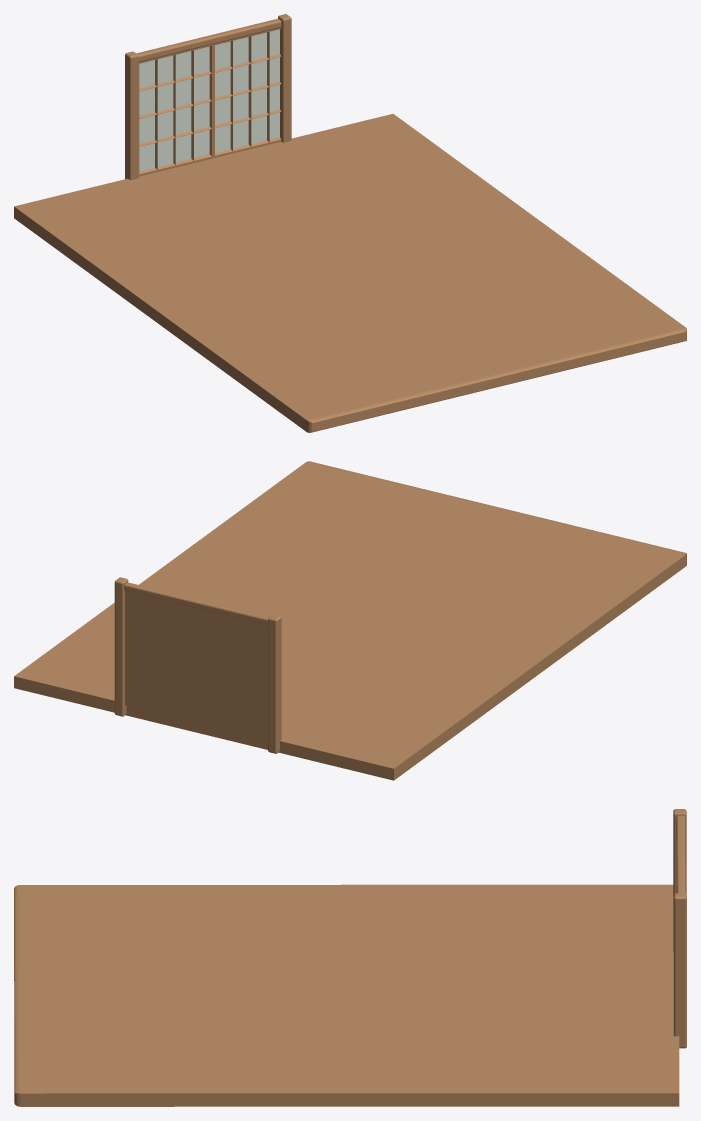
The model's file is playground.glb.
The picture shows the model from 3 angles, top to bottom: view 1: azimuth 30°, elevation 25°; view 2: azimuth 150°, elevation 25°; view 3: azimuth 270°, elevation 25°; orthographic projection. The views are drawn at different scales.
Parts seen in each view (by area): view 1: BAse, Shoji.001, Shoji, Column.002, Column.003, Column.004; view 2: BAse, Shoji.001, Shoji, Column.002, Column.003, Column.004; view 3: BAse, Column.003, Column.004, Column.002.
Boxes of the visible parts, <box> form: BAse: <box>14,114,686,432</box>; Shoji.001: <box>138,44,213,176</box>; Shoji: <box>213,27,281,158</box>; Column.002: <box>125,51,138,179</box>; Column.003: <box>278,14,291,142</box>; Column.004: <box>136,18,281,62</box>; BAse: <box>14,461,686,780</box>; Shoji.001: <box>193,608,267,739</box>; Shoji: <box>125,591,193,721</box>; Column.002: <box>268,614,281,753</box>; Column.003: <box>114,577,128,716</box>; Column.004: <box>124,582,269,625</box>; BAse: <box>14,884,679,1106</box>; Column.003: <box>673,893,686,1048</box>; Column.004: <box>676,815,685,893</box>; Column.002: <box>673,809,686,951</box>.
Bounding box in the file's own units: 8.53 × 2.9 × 11.62.
